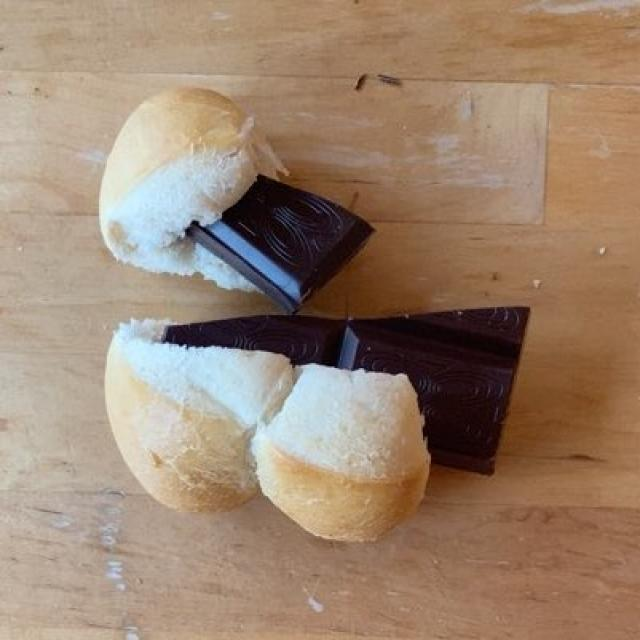bread: (98, 76, 437, 551)
chocolate: (158, 171, 536, 471)
